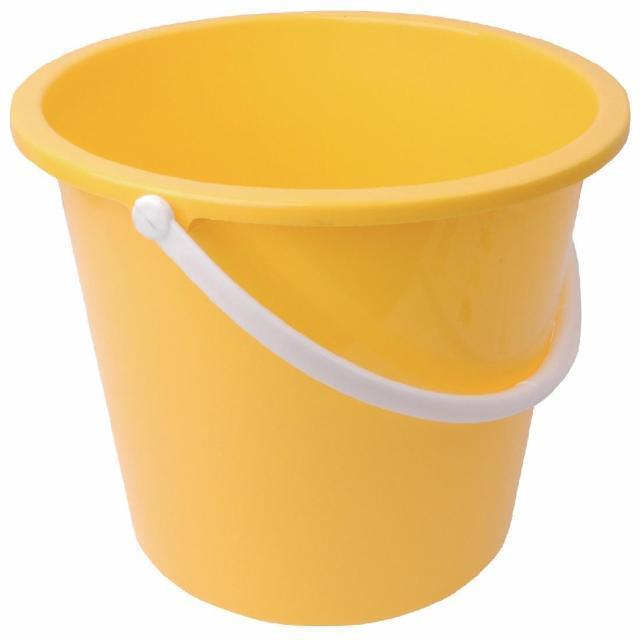Plastic: (12, 7, 635, 629)
